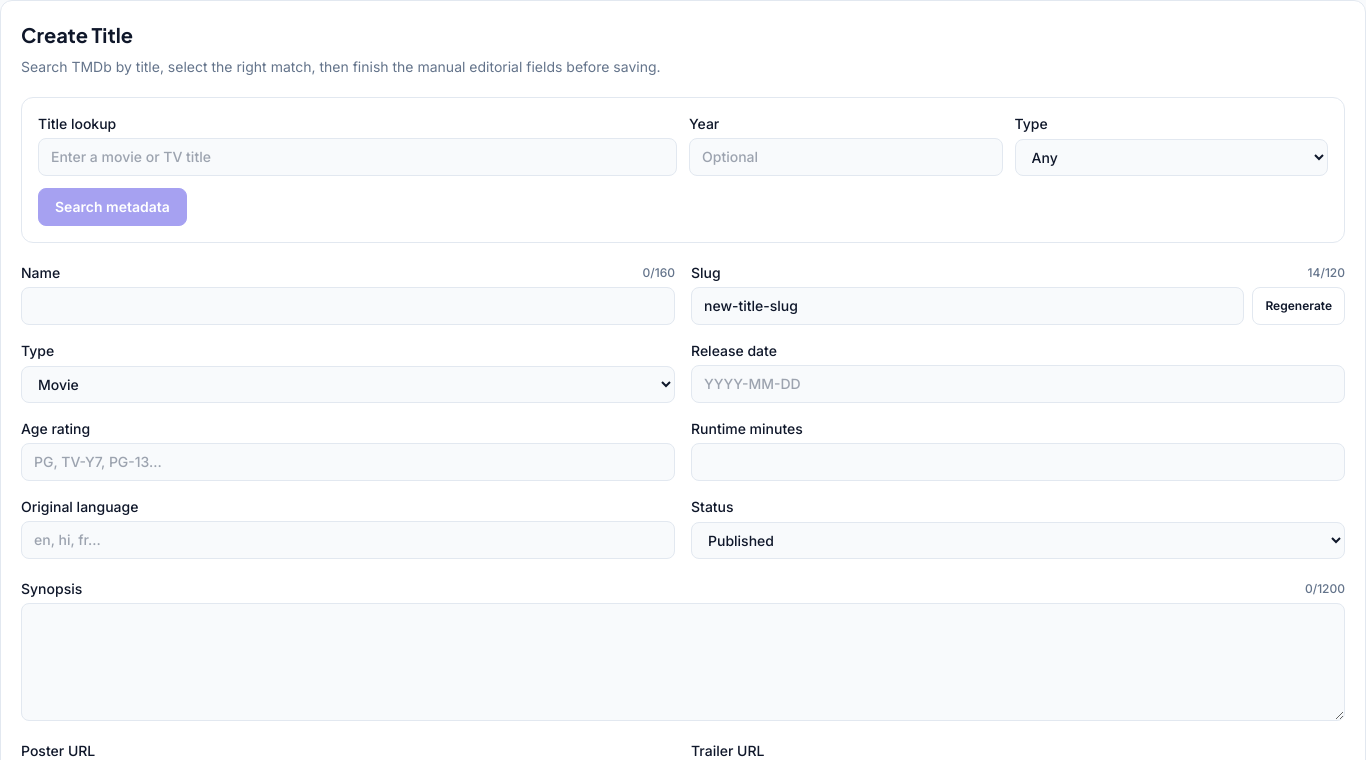
Test: AdminTitleForm › changes the slug to include the year even when metadata warns that the Rotten Tomatoes URL is only a guess
Type "The Matrix" into the field labelled "Title lookup".
click(358, 157); type("The Matrix")  # box x1=38 y1=138 x2=677 y2=176
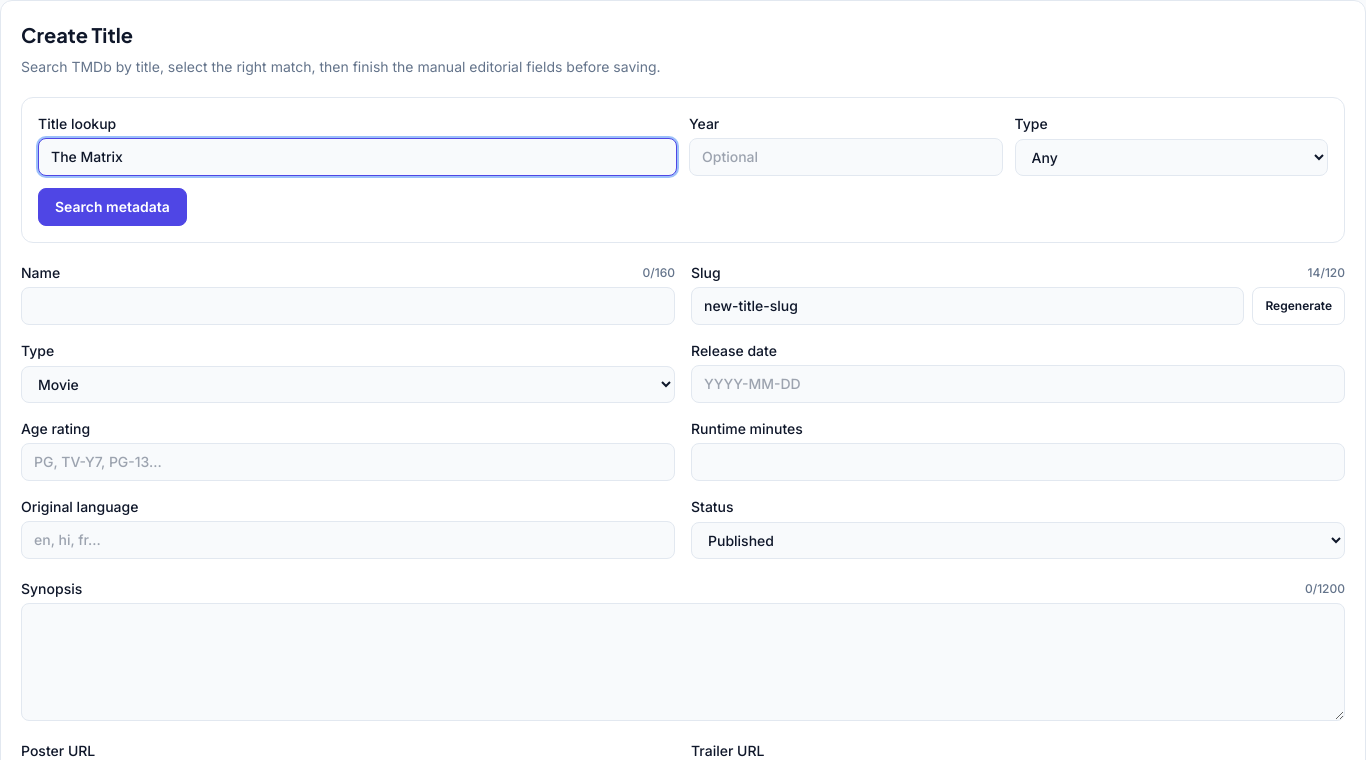
Click the button "Search metadata".
click(112, 207)  # box x1=38 y1=188 x2=187 y2=226
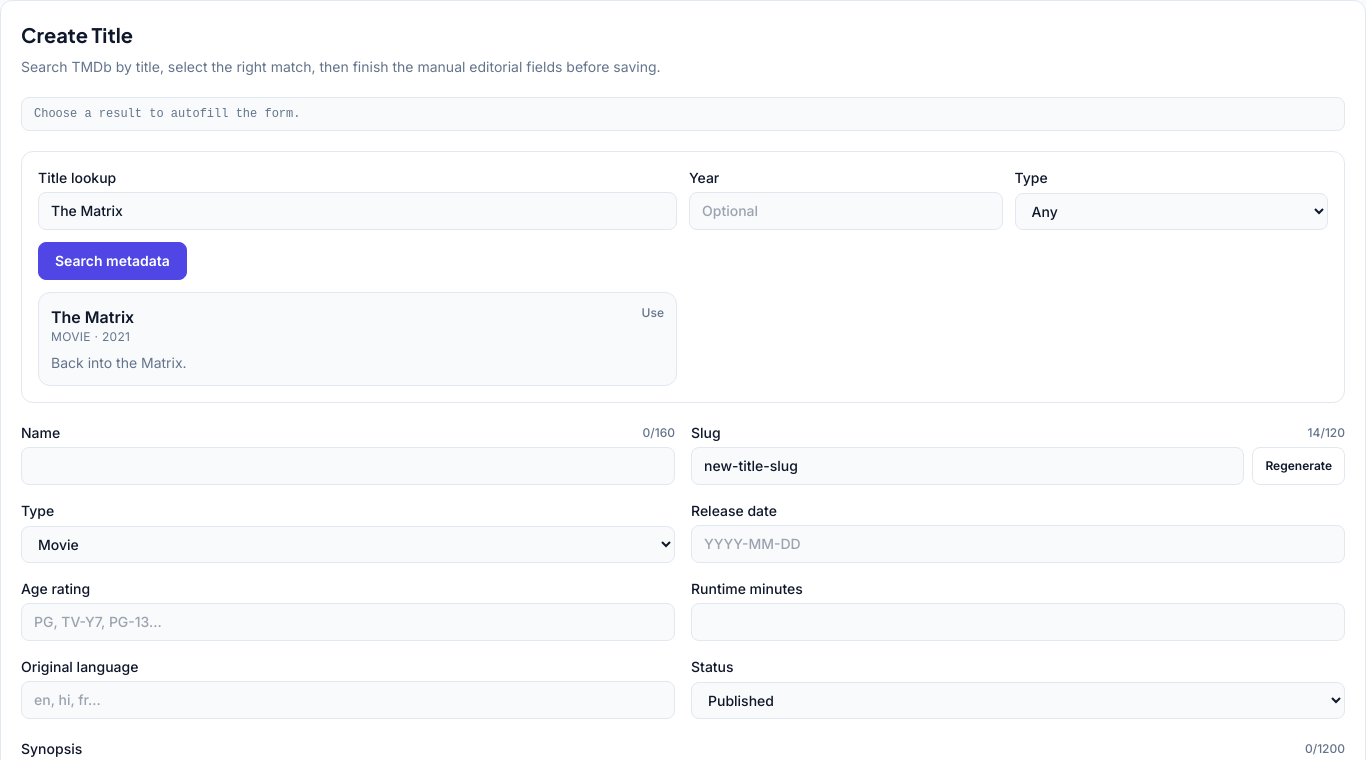
Click the button "The Matrix Movie · 2021 Use Back into the Matrix.".
click(93, 317)  # box x1=38 y1=292 x2=677 y2=386
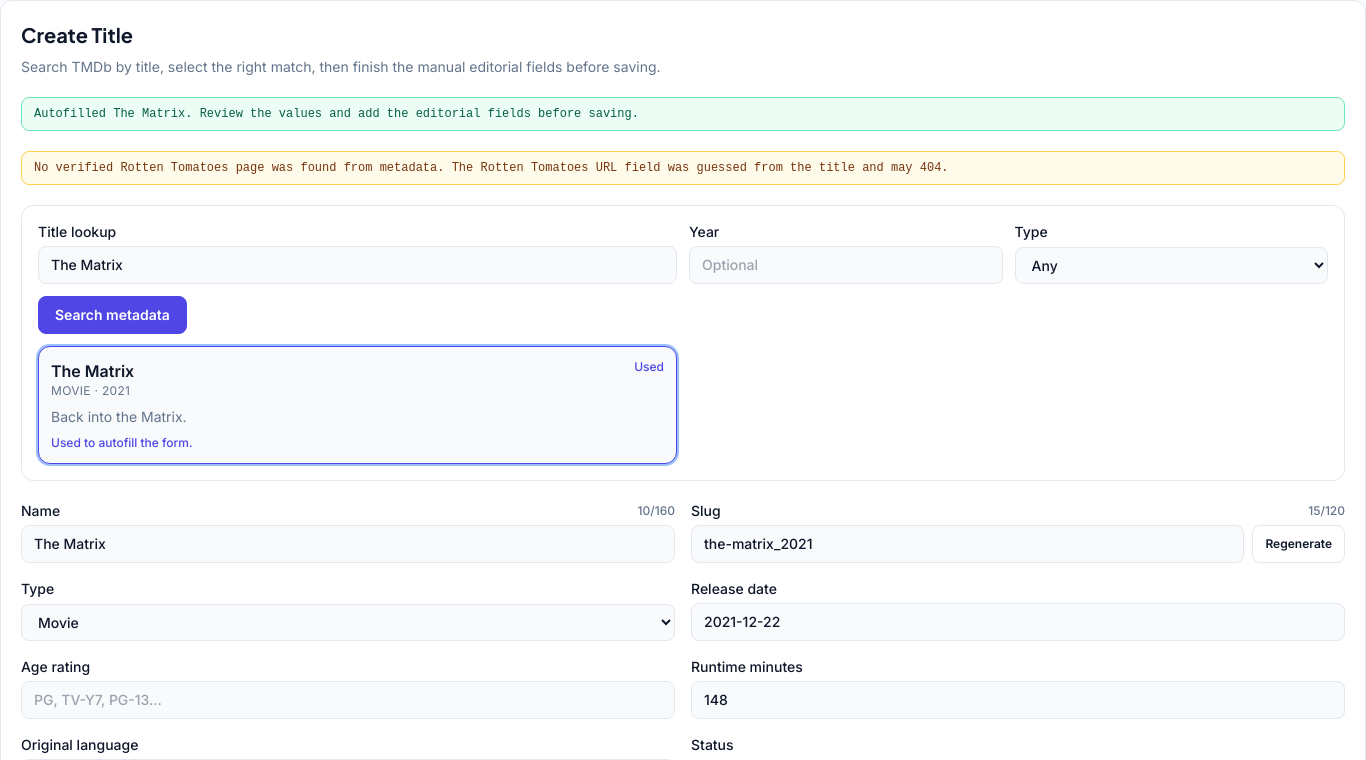
Check: the 2nd message shows "No verified Rotten Tomatoes page was found from metadata. The Rotten Tomatoes URL field was guessed from the title and may 404.", box x1=34 y1=161 x2=949 y2=175
Check: the field labelled "Slug" holds "the-matrix_2021", box x1=691 y1=525 x2=1244 y2=563
